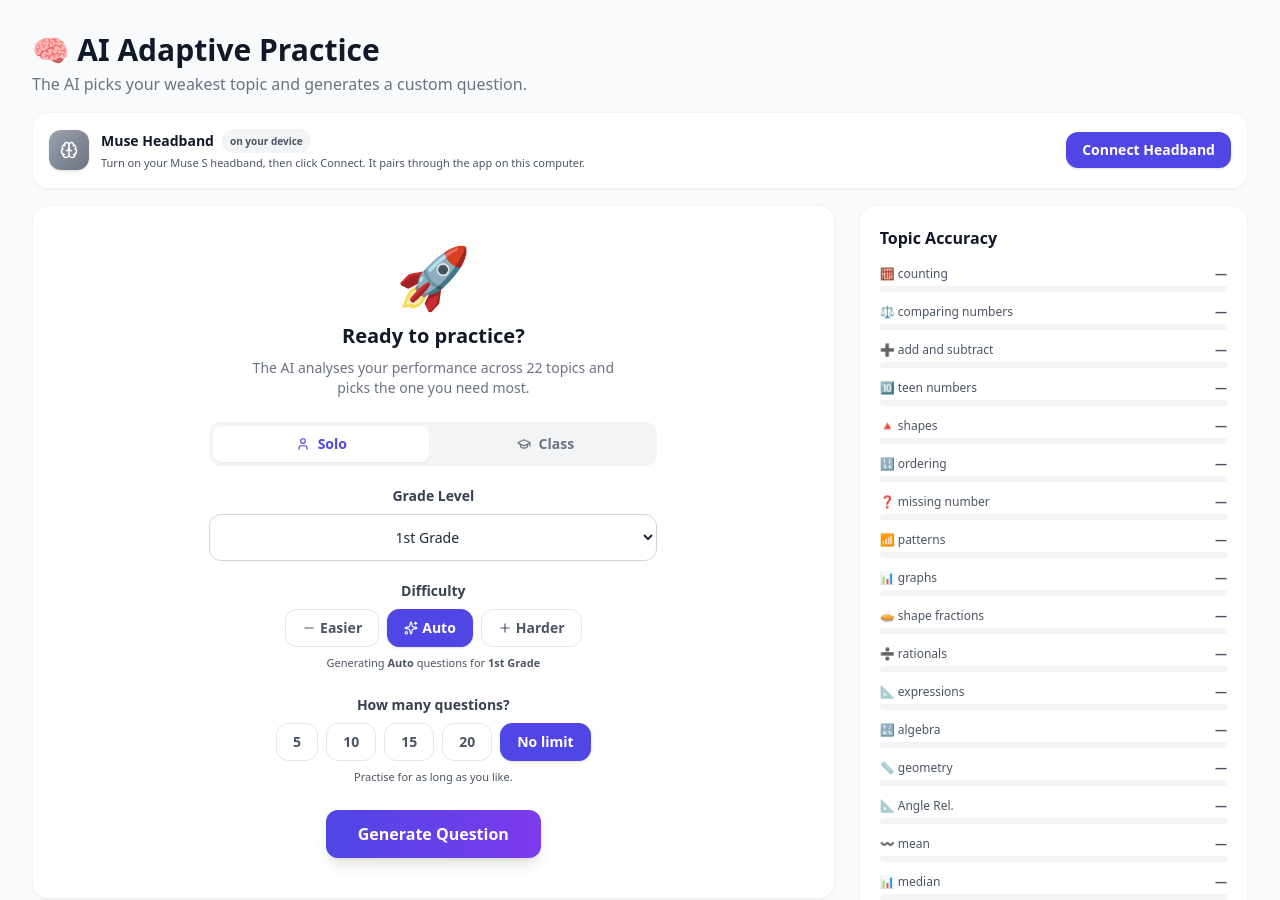
Test: counts refused and unreadable readings together as not saved
Step 1. Click the button "Generate Question" → [433, 834], box 326,810 -> 541,858
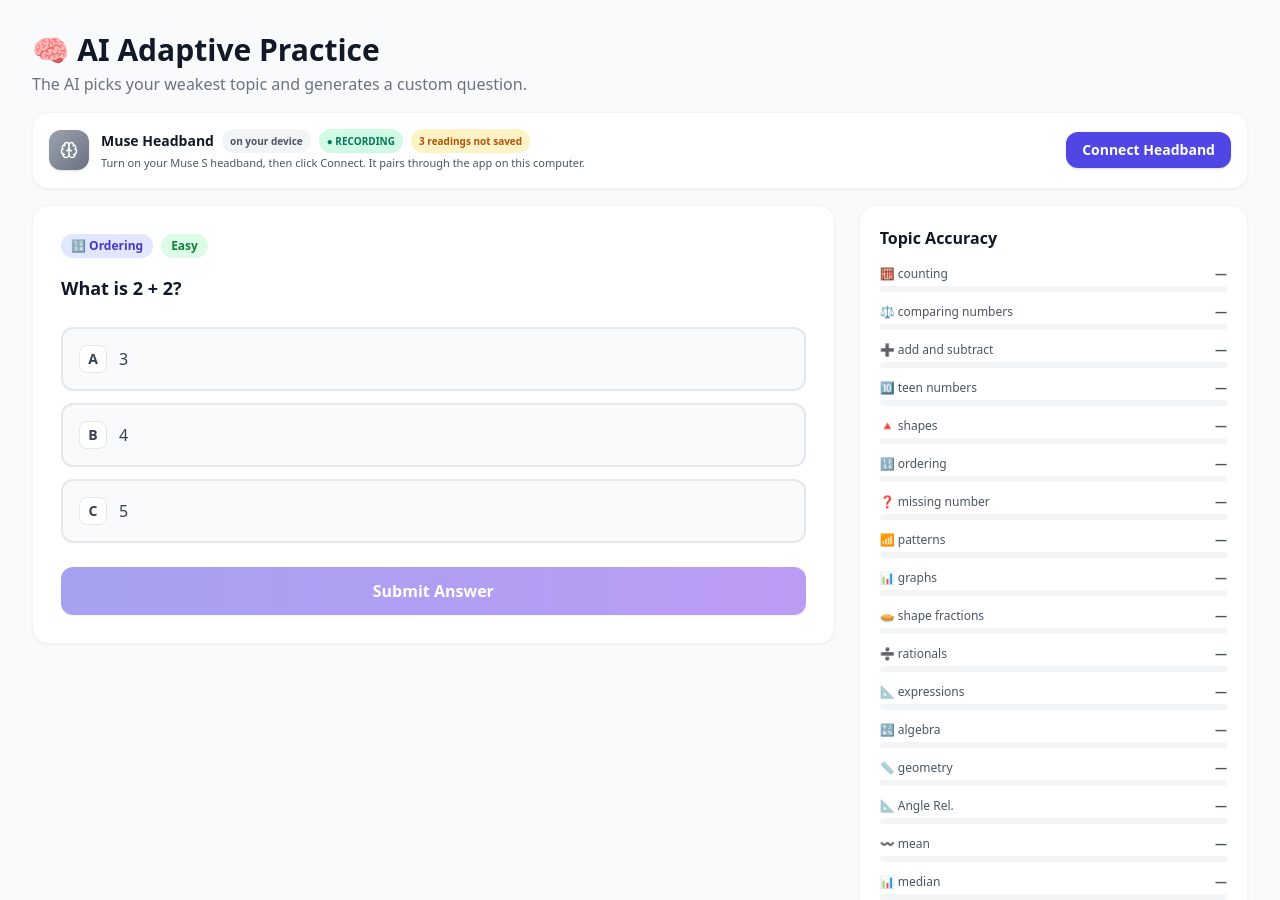
Check: the text "What is 2 + 2?" is shown, box 61,276 -> 182,300
Check: the text "● RECORDING" is shown, box 319,129 -> 403,153
Check: the text "3 readings not saved" is shown, box 411,129 -> 530,153
